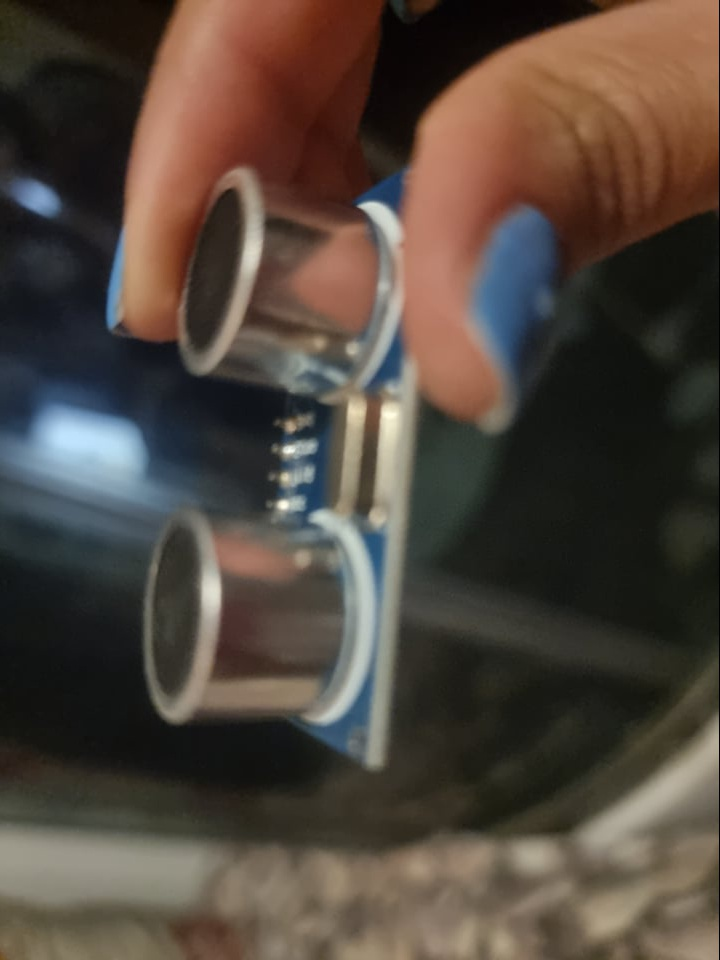SENSOR: (140, 159, 415, 773)
